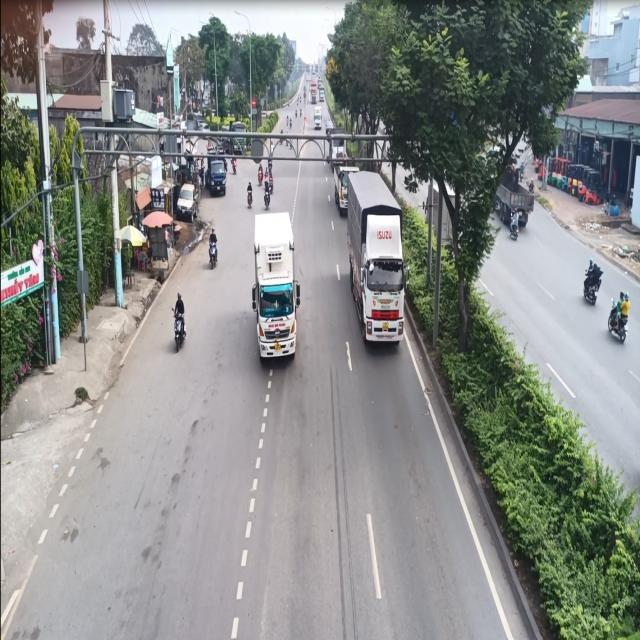motor: (168, 288, 187, 353), (207, 219, 220, 281)
truck: (344, 171, 414, 352), (247, 212, 301, 370)
